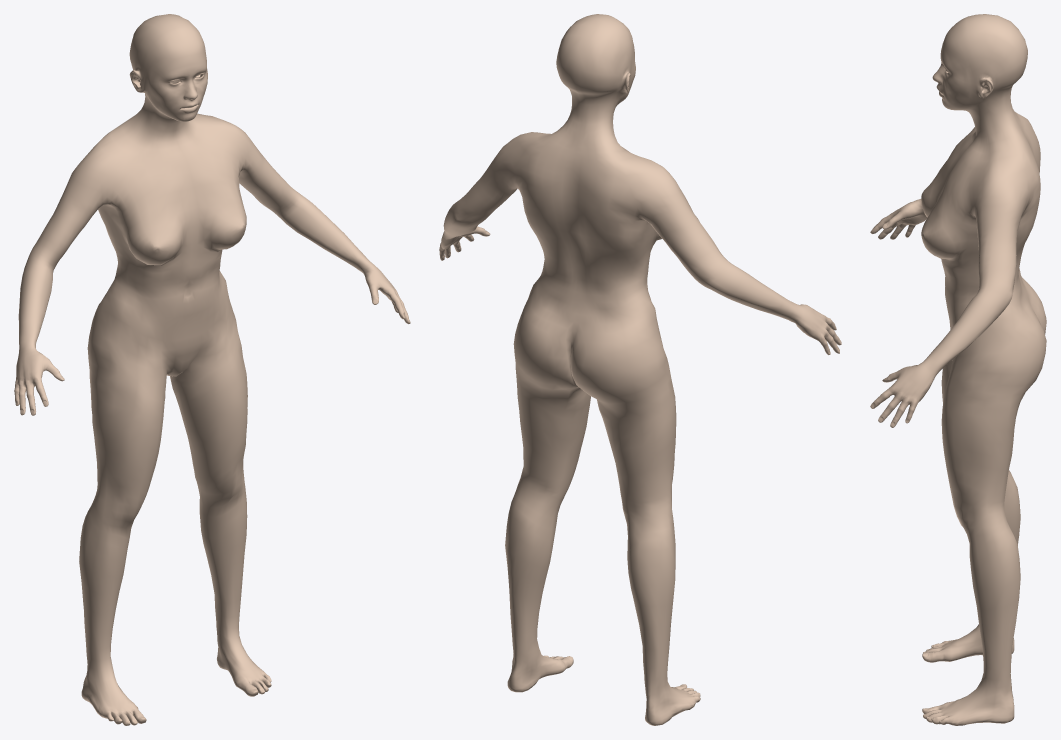
Rendered from Female_EyeballsRemoved.fbx.
3 views of the same model, side by side, from view 1: azimuth 30°, elevation 25°; view 2: azimuth 150°, elevation 25°; view 3: azimuth 270°, elevation 25° (orthographic).
Parts seen in each view (by area): view 1: femaleMesh; view 2: femaleMesh; view 3: femaleMesh.
Boxes of the visible parts, x1=… form: femaleMesh: x1=14, y1=14, x2=410, y2=725; femaleMesh: x1=439, y1=14, x2=841, y2=725; femaleMesh: x1=870, y1=14, x2=1046, y2=725.
Bounding box in the file's own units: 355 × 587 × 139.
